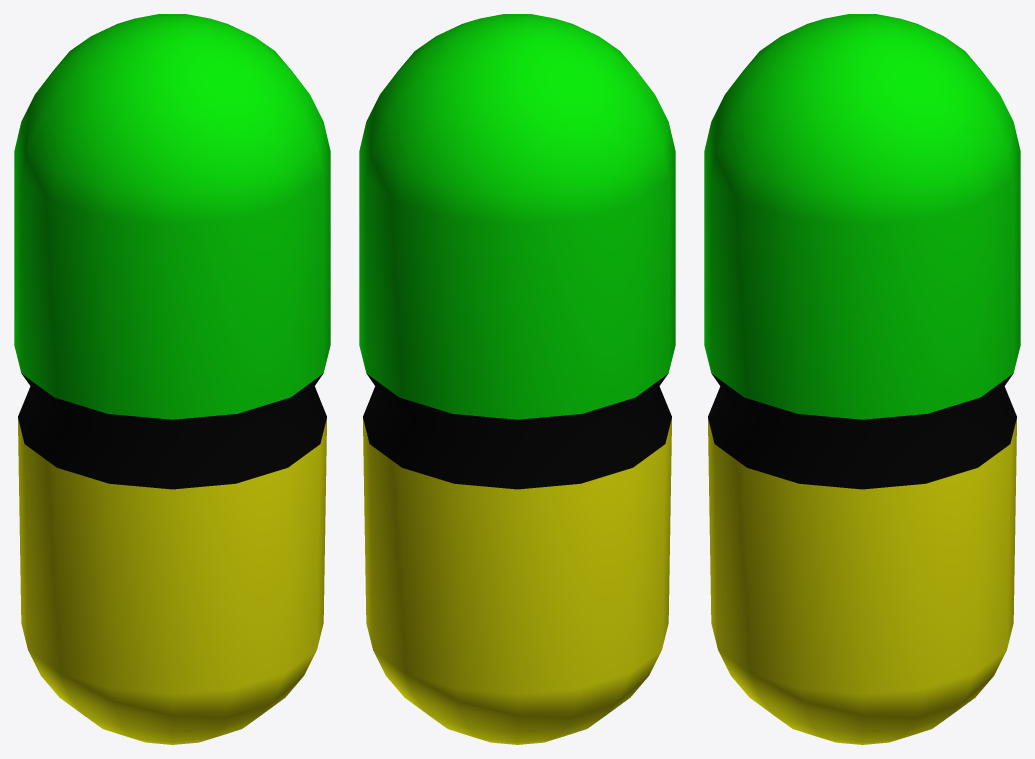
Rendered from pill.fbx.
3 views of the same model, side by side, from view 1: azimuth 30°, elevation 25°; view 2: azimuth 150°, elevation 25°; view 3: azimuth 270°, elevation 25° (orthographic).
Parts seen in each view (by area): view 1: aPill; view 2: aPill; view 3: aPill.
Part boxes in pixels (x1,y1,x2,y2): aPill: (14,14,330,744); aPill: (359,14,675,744); aPill: (704,14,1020,744).
Size of the model in its own units: 1.97 by 4.84 by 1.98.
